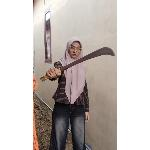Golok: (42, 44, 118, 82)
